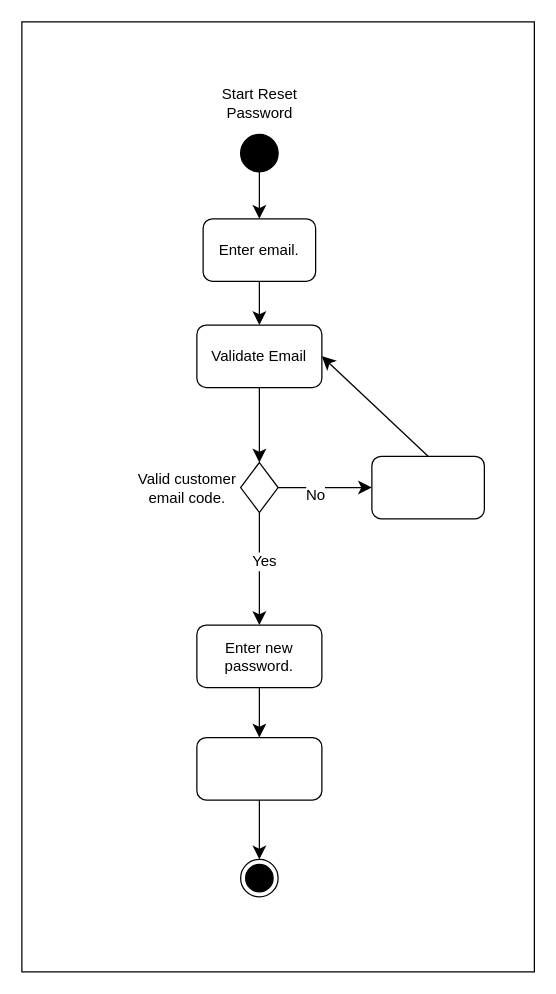
This 556x994 diagram has some shape labels left out. The box of each missing label's shape, as (x1, y1, x2, y2) in pixels:
Resend Code: (371, 455, 484, 519)
Submit.: (196, 736, 322, 800)
